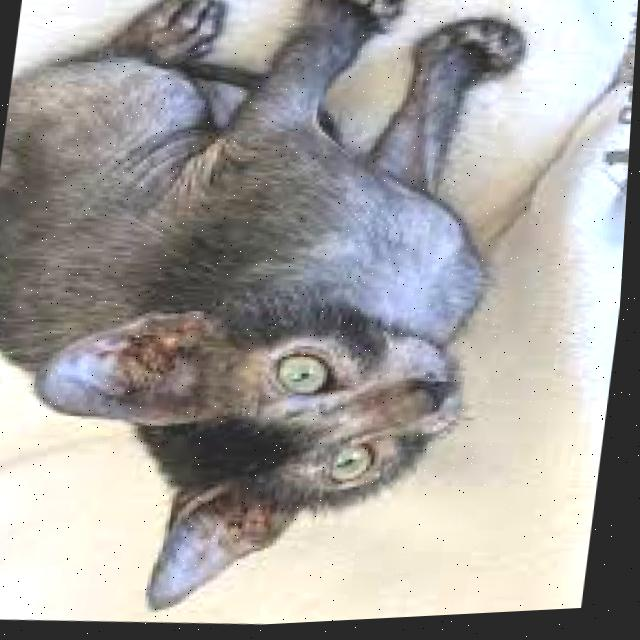Lykoi: (0, 0, 541, 640)
